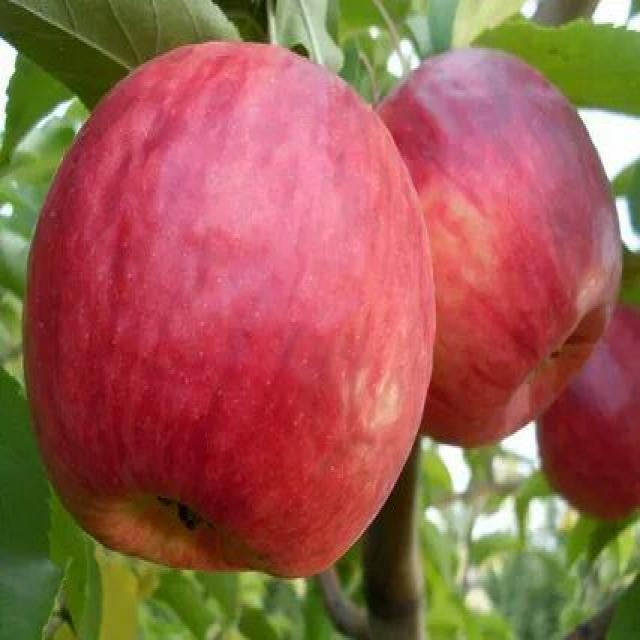Fresh Apple: (38, 36, 422, 576), (394, 34, 624, 422)
